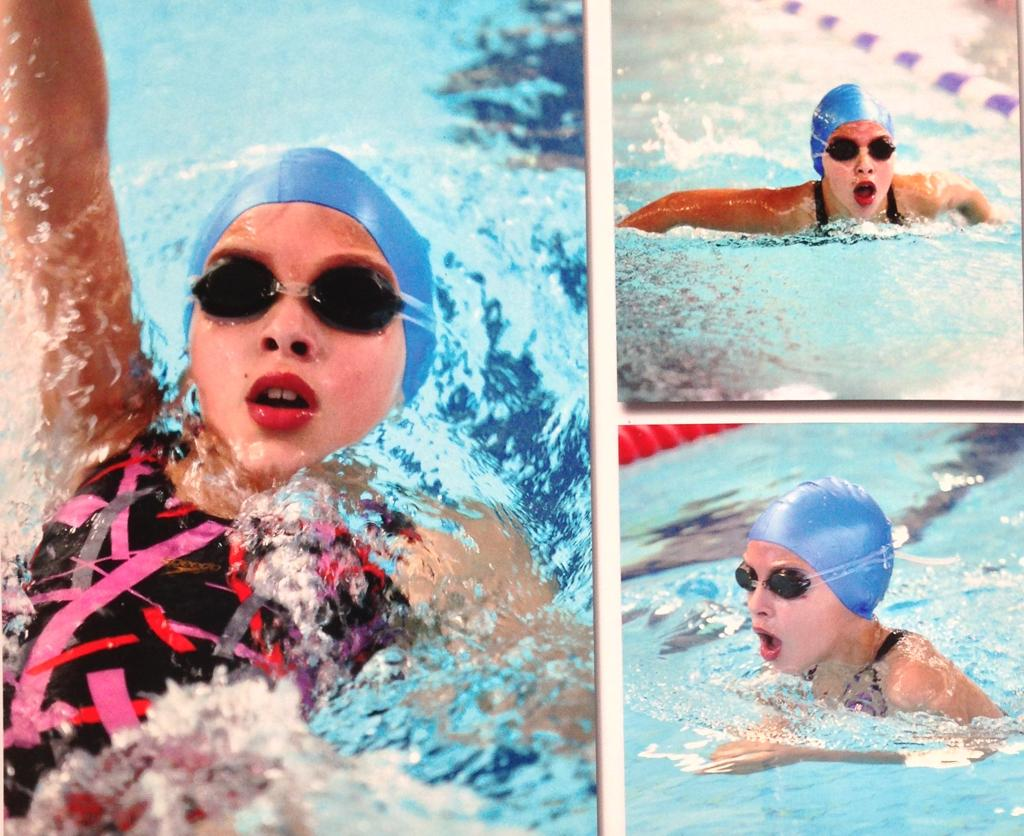face: (198, 234, 400, 474), (730, 532, 830, 670), (828, 112, 894, 216)
